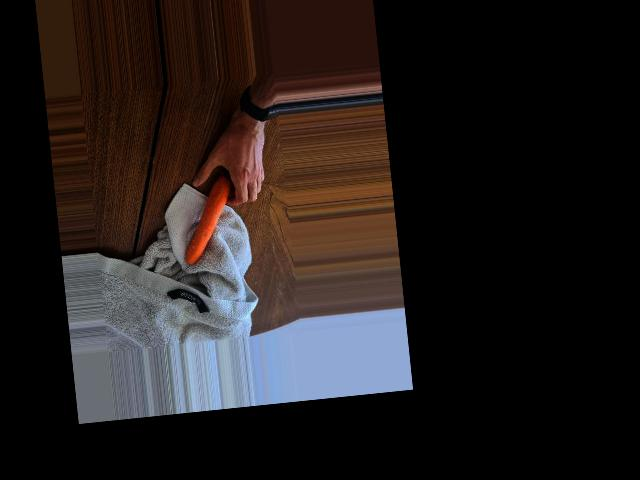carrot: (176, 170, 241, 266)
